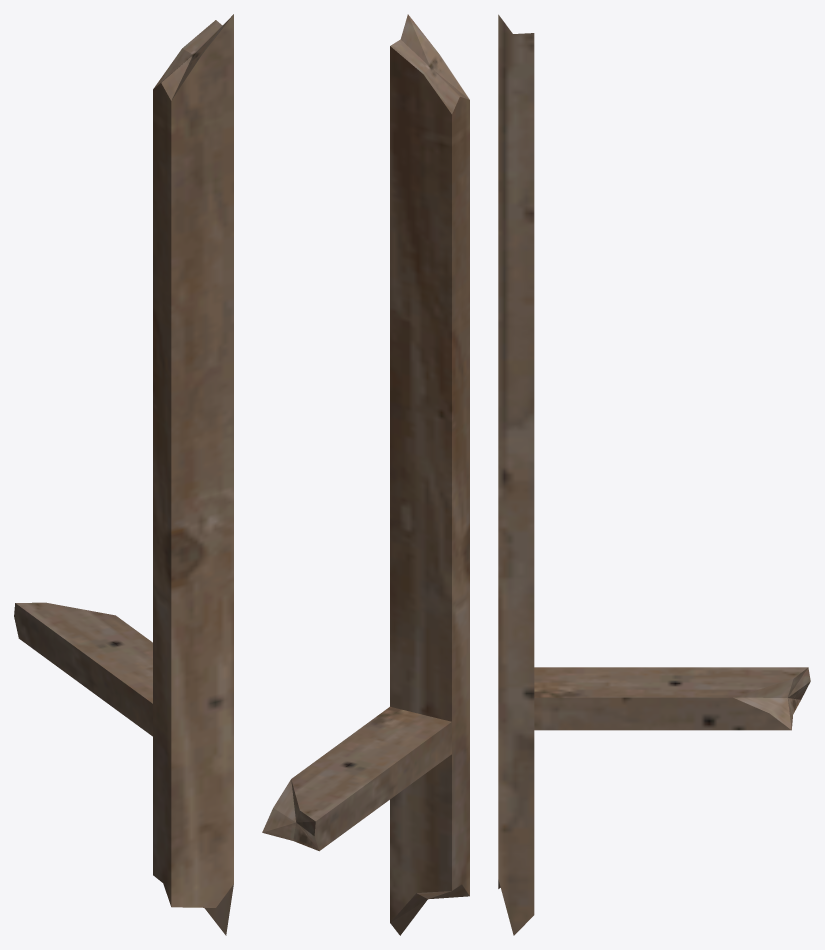
File: infectedbreakwall01_2x4mainpart02_dm.glb
3 views of the same model, side by side, from view 1: azimuth 30°, elevation 25°; view 2: azimuth 150°, elevation 25°; view 3: azimuth 270°, elevation 25° (orthographic).
Visible parts, largest first — view 1: infectedbreakwall01_2x4mainpart02_dm; view 2: infectedbreakwall01_2x4mainpart02_dm; view 3: infectedbreakwall01_2x4mainpart02_dm.
Boxes of the visible parts, x1,y1,x2,y2 form: infectedbreakwall01_2x4mainpart02_dm: (14, 14, 233, 935); infectedbreakwall01_2x4mainpart02_dm: (262, 14, 469, 935); infectedbreakwall01_2x4mainpart02_dm: (498, 14, 810, 935).
Bounding box in the file's own units: 0.0762 × 1.08 × 0.3309.
1 material, 1 textured.
